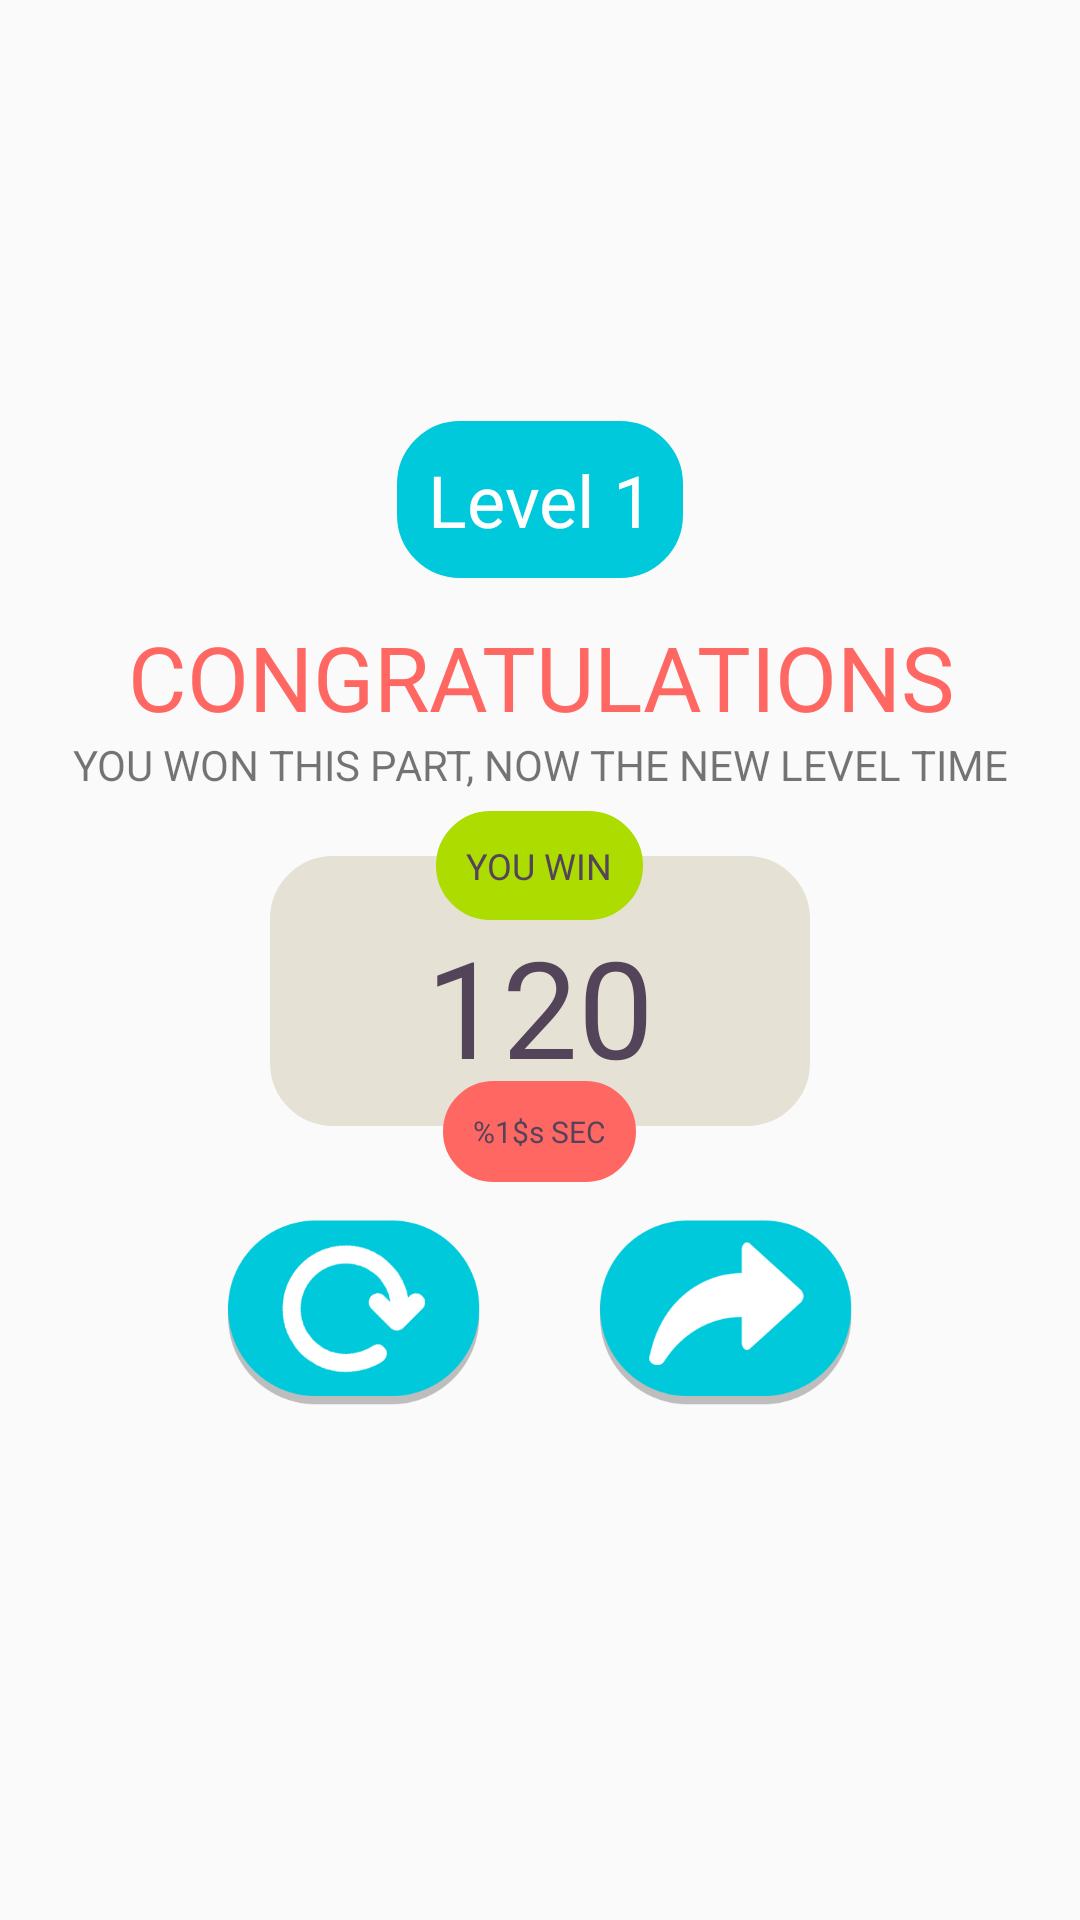

Icons on this 1080px×1920px Android screen, each with its box as bbox=[x1, y1, x2, y2]:
next: bbox=[600, 1220, 852, 1404]
repeat: bbox=[228, 1220, 480, 1404]
